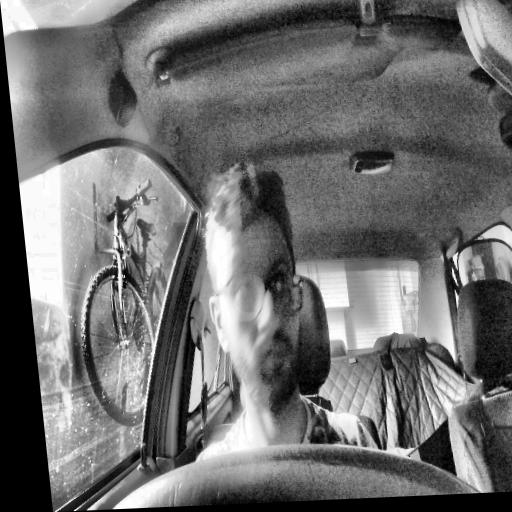awake: (193, 158, 316, 415)
